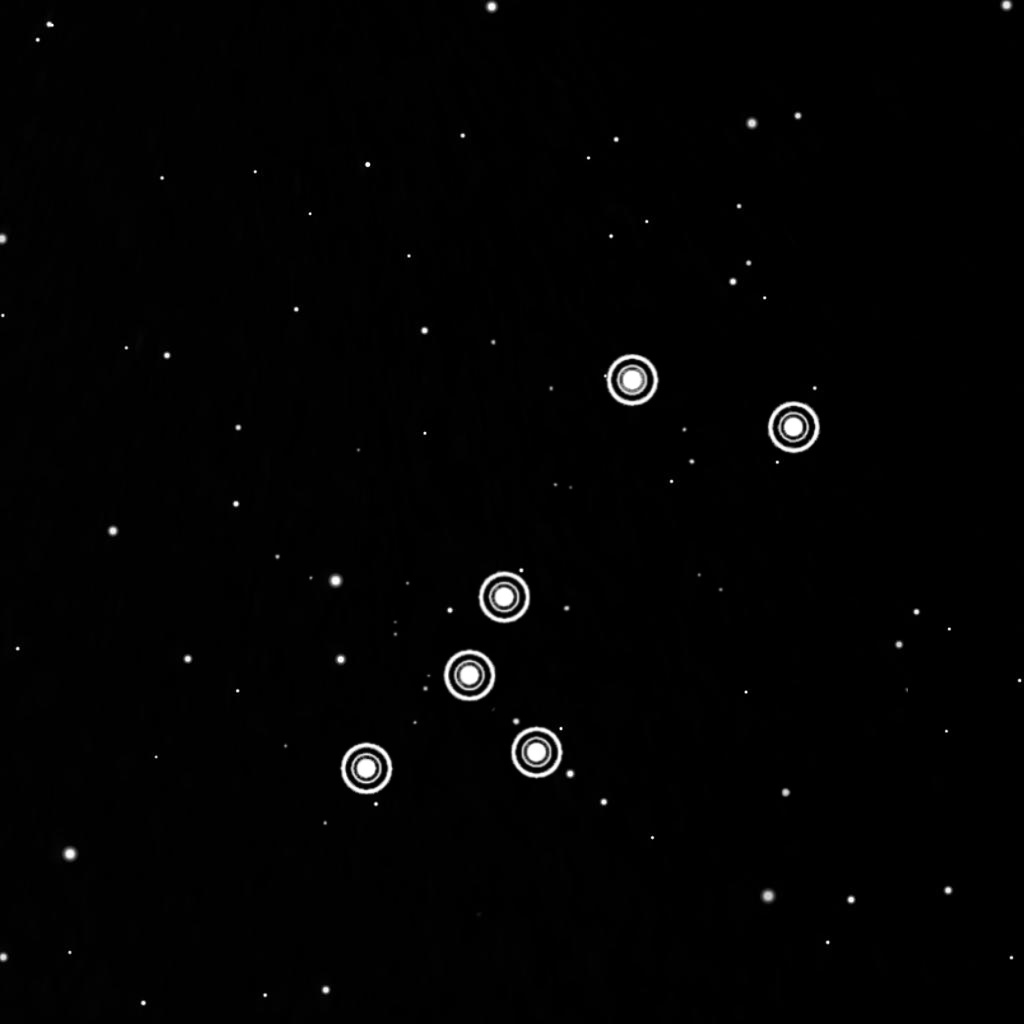canis_major: (325, 347, 835, 811)
